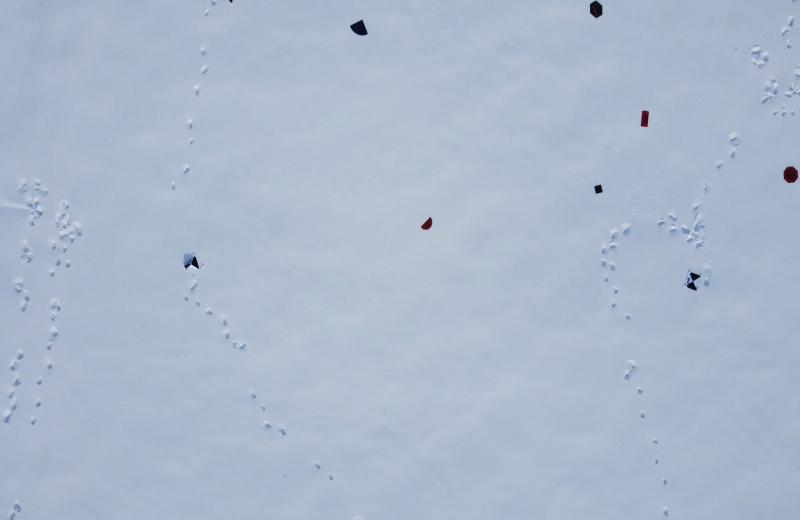Hexagon: (588, 0, 602, 19)
Octagon: (782, 165, 800, 184)
Quarter Circle: (350, 19, 368, 37)
Rectangle: (639, 108, 650, 130)
Semi Circle: (420, 216, 435, 232)
Square: (594, 184, 603, 195)
